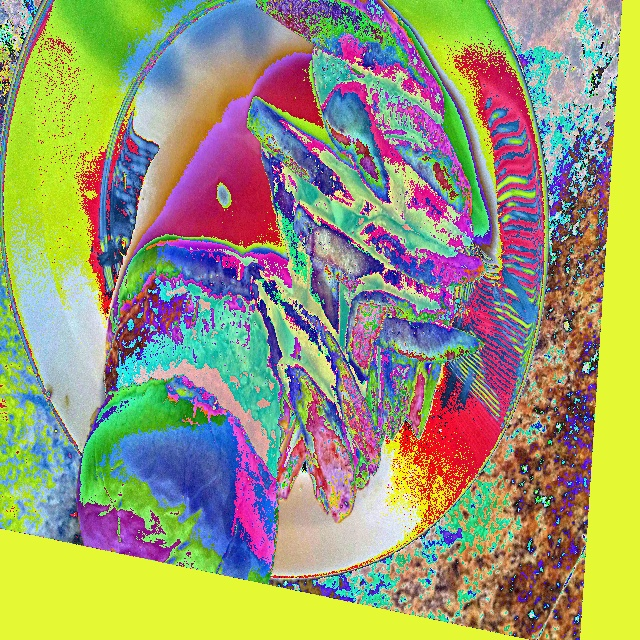background: (77, 0, 488, 585)
